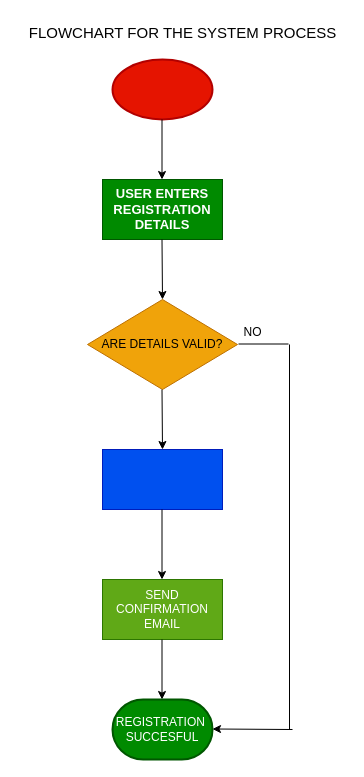
Image size: 364x777. Some labels were removed from this diagram. The shapes that lost their labels are listed below. From the top down, each one's box as (x1, y1, x2, y2) in pixels, then its label:
(111, 58, 213, 120): START
(102, 448, 222, 510): SAVE USER DATA TO DATABASE
